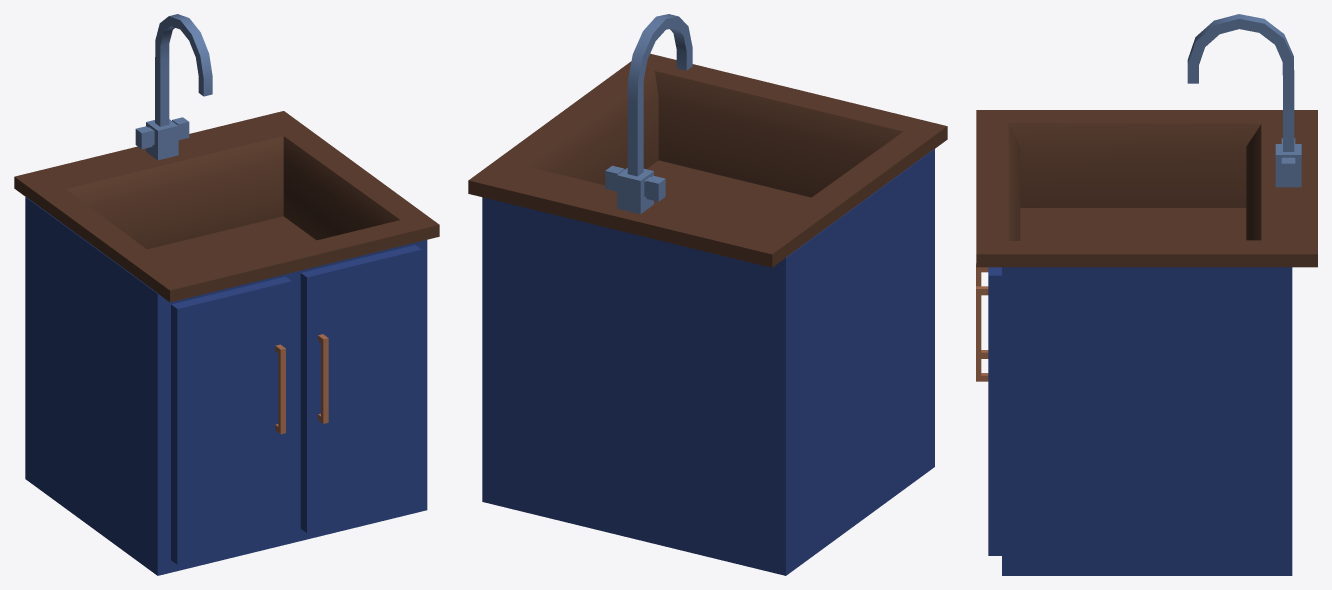
Rendered from sink.fbx.
3 views of the same model, side by side, from view 1: azimuth 30°, elevation 25°; view 2: azimuth 150°, elevation 25°; view 3: azimuth 270°, elevation 25° (orthographic). The views are drawn at different scales.
Parts seen in each view (by area): view 1: Cube_2_2, Cube_3_2, Cube_4_2, Cube_1, Cube_4_1, Cube, Cube_5_2, Cube_4_3; view 2: Cube_2_2, Cube_3_2, Cube_4_1, Cube; view 3: Cube_2_2, Cube_3_2, Cube_4_2, Cube_4_1, Cube, Cube_4_3.
Boxes of the visible parts, x1=… form: Cube_2_2: x1=25, y1=197, x2=427, y2=575; Cube_3_2: x1=14, y1=111, x2=439, y2=302; Cube_4_2: x1=300, y1=245, x2=421, y2=533; Cube_1: x1=171, y1=276, x2=291, y2=564; Cube_4_1: x1=155, y1=14, x2=212, y2=126; Cube: x1=146, y1=119, x2=178, y2=160; Cube_5_2: x1=275, y1=344, x2=285, y2=434; Cube_4_3: x1=318, y1=334, x2=328, y2=423; Cube_2_2: x1=482, y1=149, x2=934, y2=575; Cube_3_2: x1=468, y1=53, x2=947, y2=267; Cube_4_1: x1=627, y1=14, x2=692, y2=176; Cube: x1=617, y1=168, x2=653, y2=214; Cube_2_2: x1=1002, y1=267, x2=1292, y2=575; Cube_3_2: x1=976, y1=110, x2=1317, y2=267; Cube_4_2: x1=988, y1=267, x2=1001, y2=555; Cube_4_1: x1=1187, y1=14, x2=1294, y2=151; Cube: x1=1275, y1=144, x2=1301, y2=187; Cube_4_3: x1=976, y1=286, x2=988, y2=381.
Size of the model in its own units: 200 by 315 by 200.
